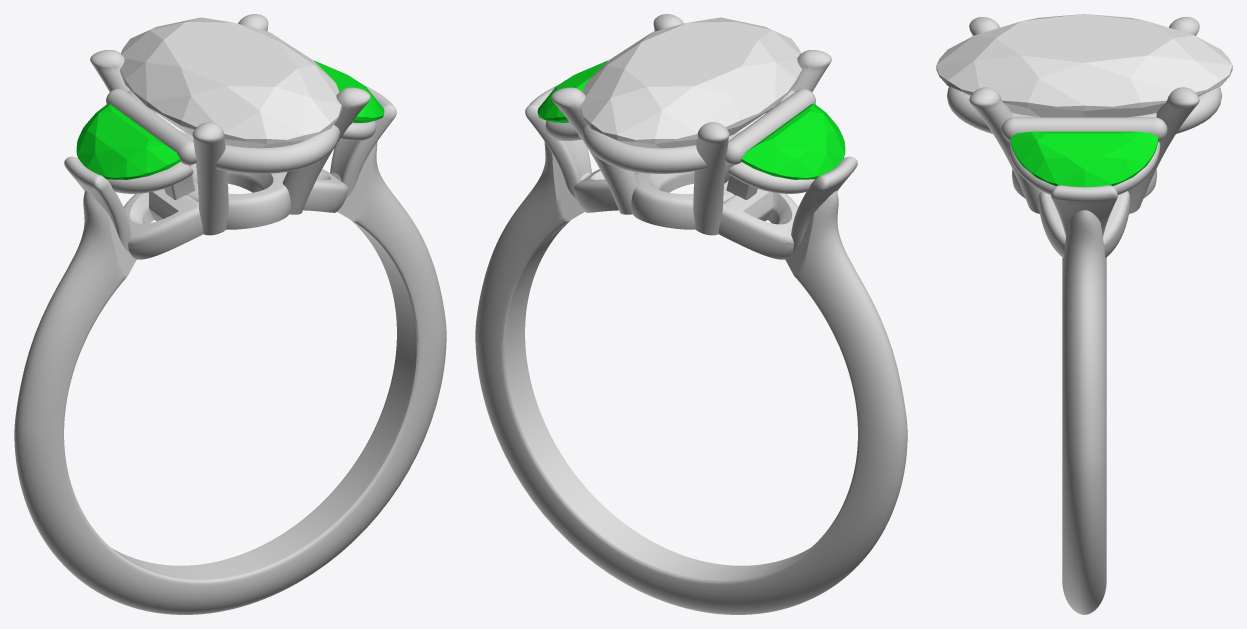
The model's file is JennaV2pt3stone_blender.glb.
3 views of the same model, side by side, from view 1: azimuth 30°, elevation 25°; view 2: azimuth 150°, elevation 25°; view 3: azimuth 270°, elevation 25° (orthographic).
Parts seen in each view (by area): view 1: V2 Jenna PT for 3d model, Jenna dia for 3d model, V2 Jenna emerald for 3d model.001, V2 Jenna emerald for 3d model; view 2: V2 Jenna PT for 3d model, Jenna dia for 3d model, V2 Jenna emerald for 3d model.001, V2 Jenna emerald for 3d model; view 3: V2 Jenna PT for 3d model, Jenna dia for 3d model, V2 Jenna emerald for 3d model.
Part boxes in pixels (x1,y1,x2,y2): V2 Jenna PT for 3d model: (14,14,446,614); Jenna dia for 3d model: (120,17,341,148); V2 Jenna emerald for 3d model.001: (76,103,181,179); V2 Jenna emerald for 3d model: (314,60,384,122); V2 Jenna PT for 3d model: (475,14,907,614); Jenna dia for 3d model: (580,17,801,148); V2 Jenna emerald for 3d model.001: (741,103,845,179); V2 Jenna emerald for 3d model: (537,60,607,122); V2 Jenna PT for 3d model: (947,17,1221,614); Jenna dia for 3d model: (936,14,1232,117); V2 Jenna emerald for 3d model: (1010,131,1158,186).
Bounding box in the file's own units: 20.08 × 24.77 × 12.01.
